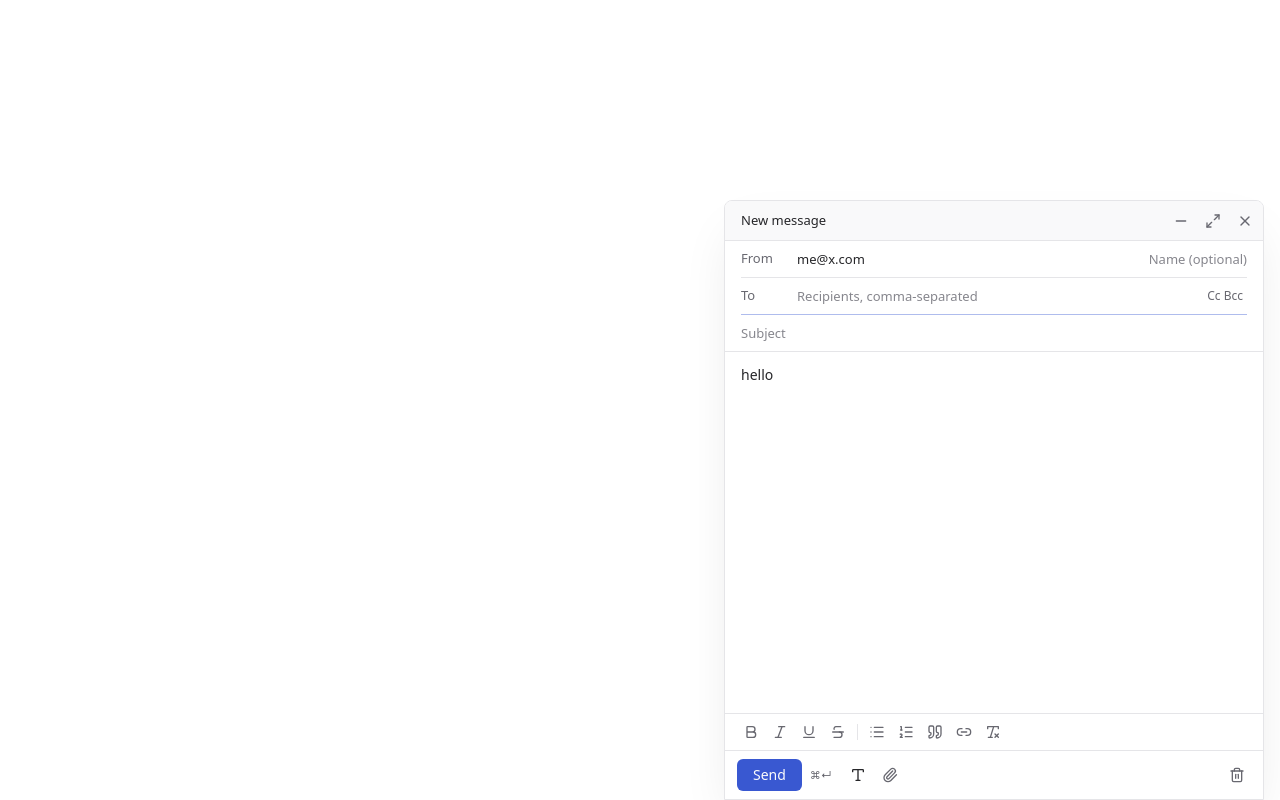
Test: ComposeWindow — sending › requires at least one recipient before sending
The width and height of the screenshot is (1280, 800).
Click the button "Send".
click(769, 775)  # box top-left (737, 759), bottom-right (802, 791)
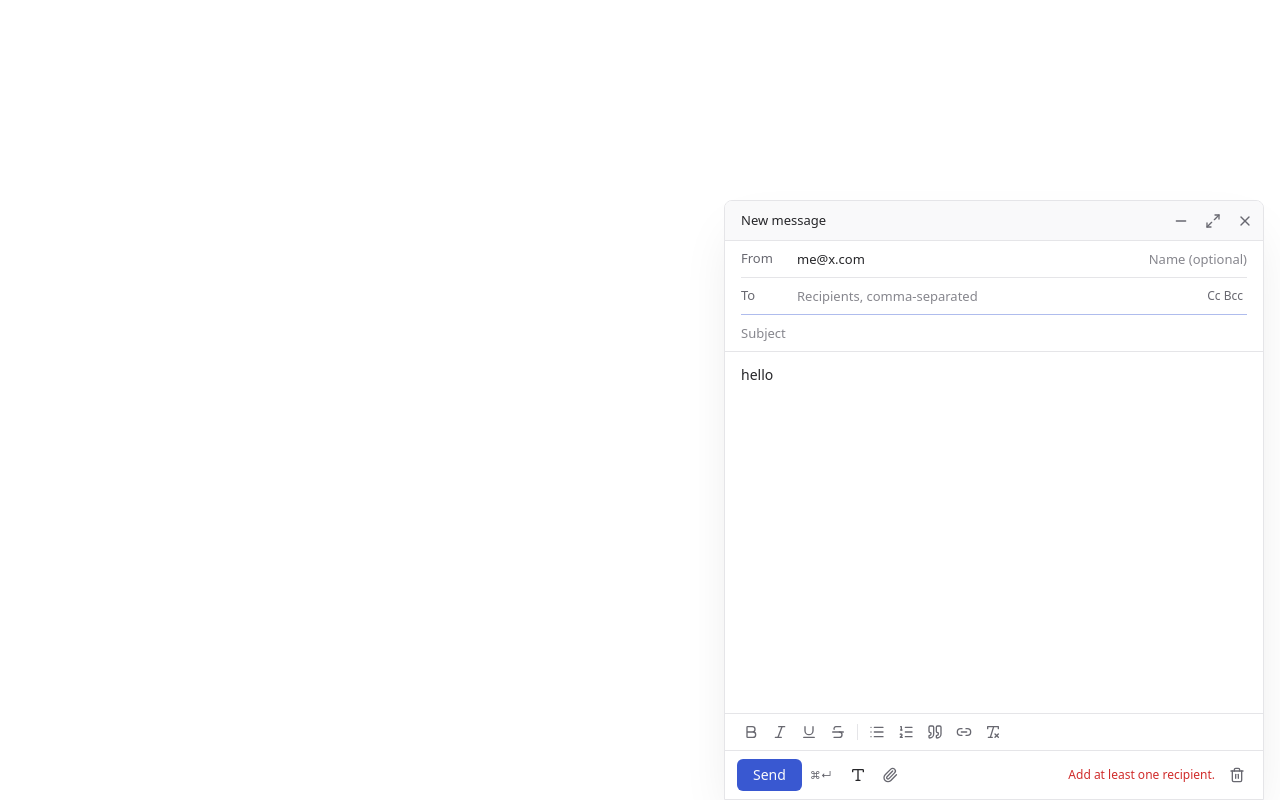
expect the message shows "at least one recipient": met, box top-left (1068, 766), bottom-right (1215, 783)
